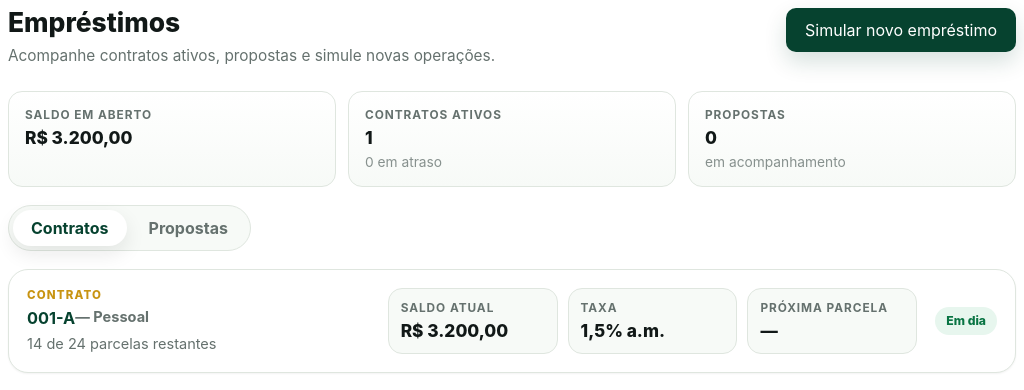
Scenario: EmprestimoApp › navega para tela Contrato ao clicar num contrato e volta
Click the text "001-A" at x=51, y=319, box top-left (27, 308), bottom-right (75, 329)
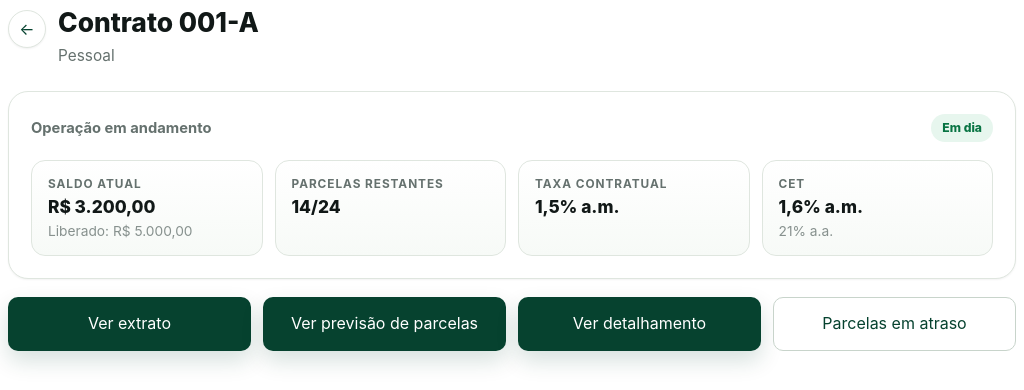
Expected: the text "Pessoal" is shown, top-left (58, 46), bottom-right (115, 64)
Click the button named "Voltar" at x=27, y=29, box top-left (8, 10), bottom-right (46, 48)
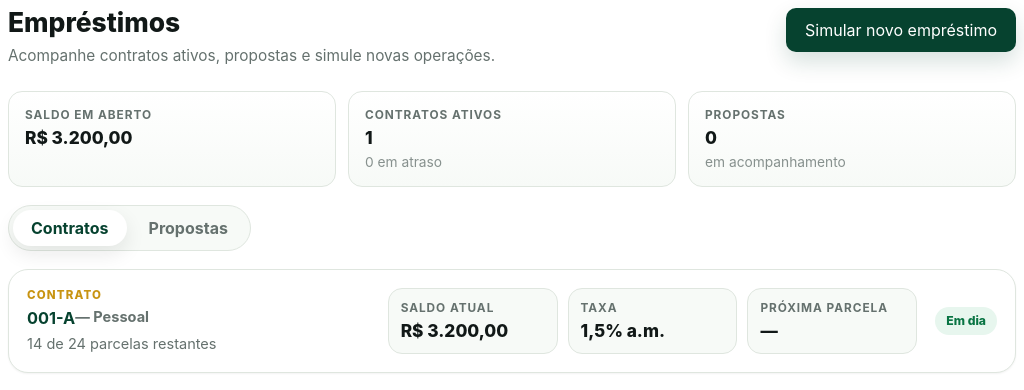
Expected: the heading "Empréstimos" is shown, top-left (8, 6), bottom-right (180, 38)
